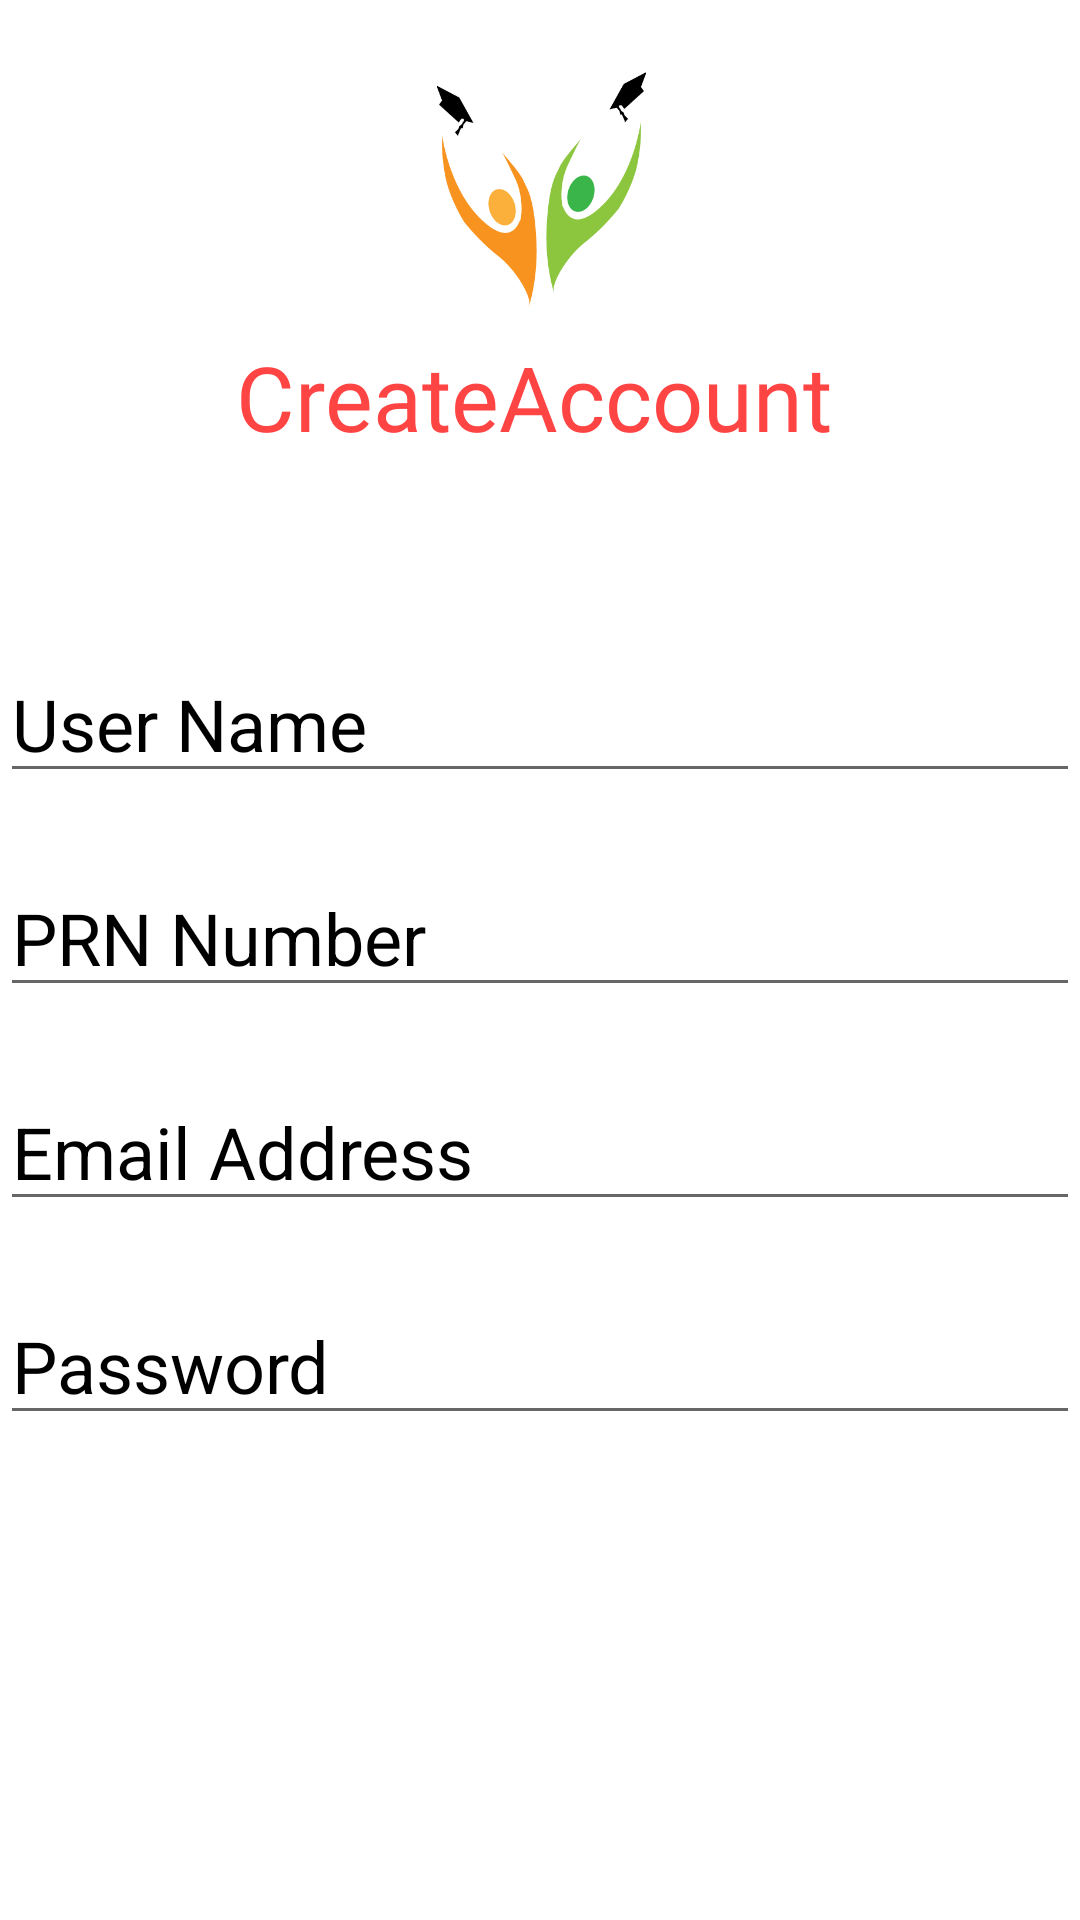

Icons on this 1080×1920 Android screen, each with its box as [x1=x1, y1=y1, x2=x2, y2=y2]:
alumni: [x1=437, y1=72, x2=646, y2=306]
